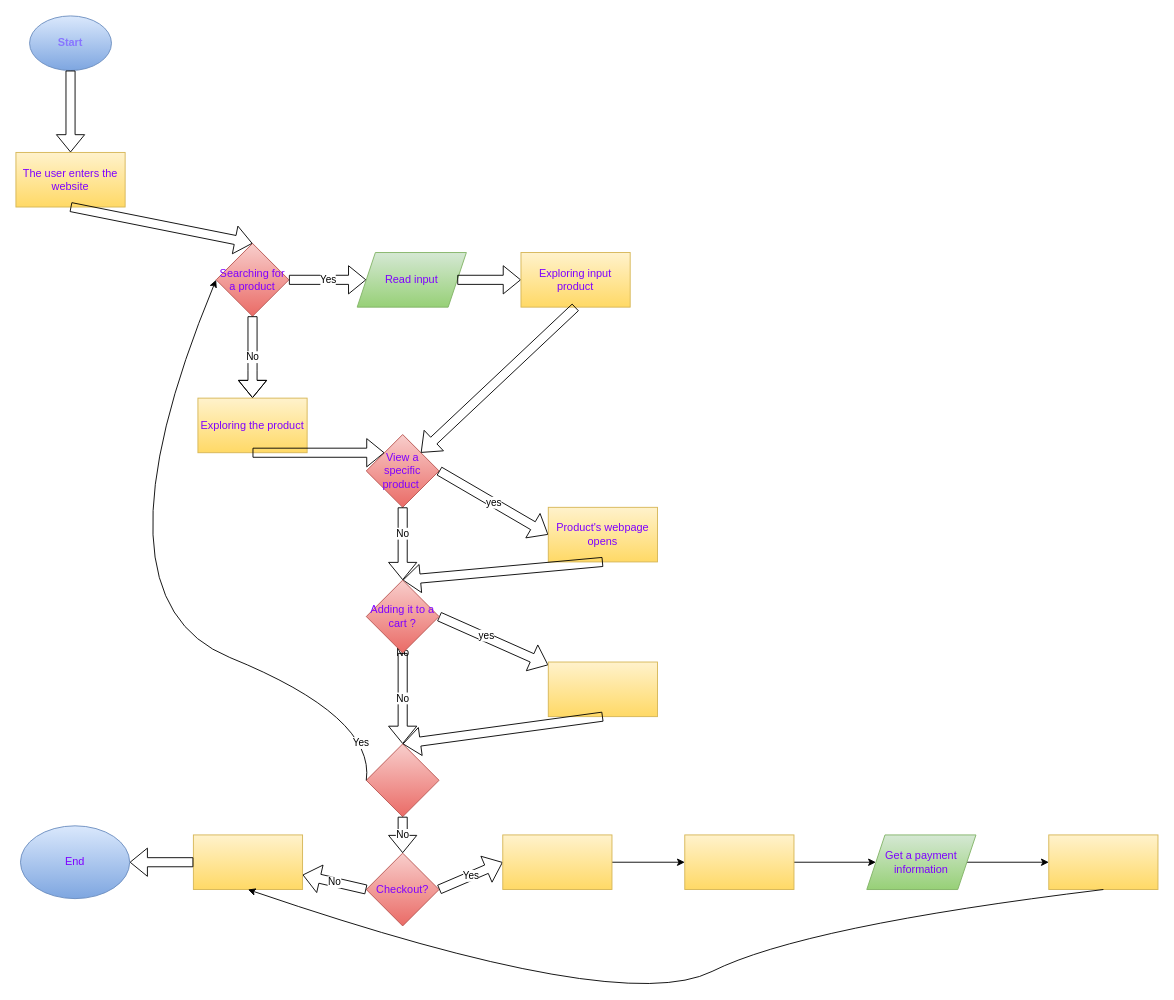
This 1174x1000 diagram has some shape labels left out. Each missing label, with the centre of its shape:
"Continue shopping?" goes at (402,780).
"Leave the website" goes at (247,862).
"Receive an added to cart comfirmation" goes at (602,689).
"show the comfirmation screen and recieve an email" goes at (1103,862).
"View Cart Screen" goes at (557,862).
"View payment screen" goes at (739,862).
